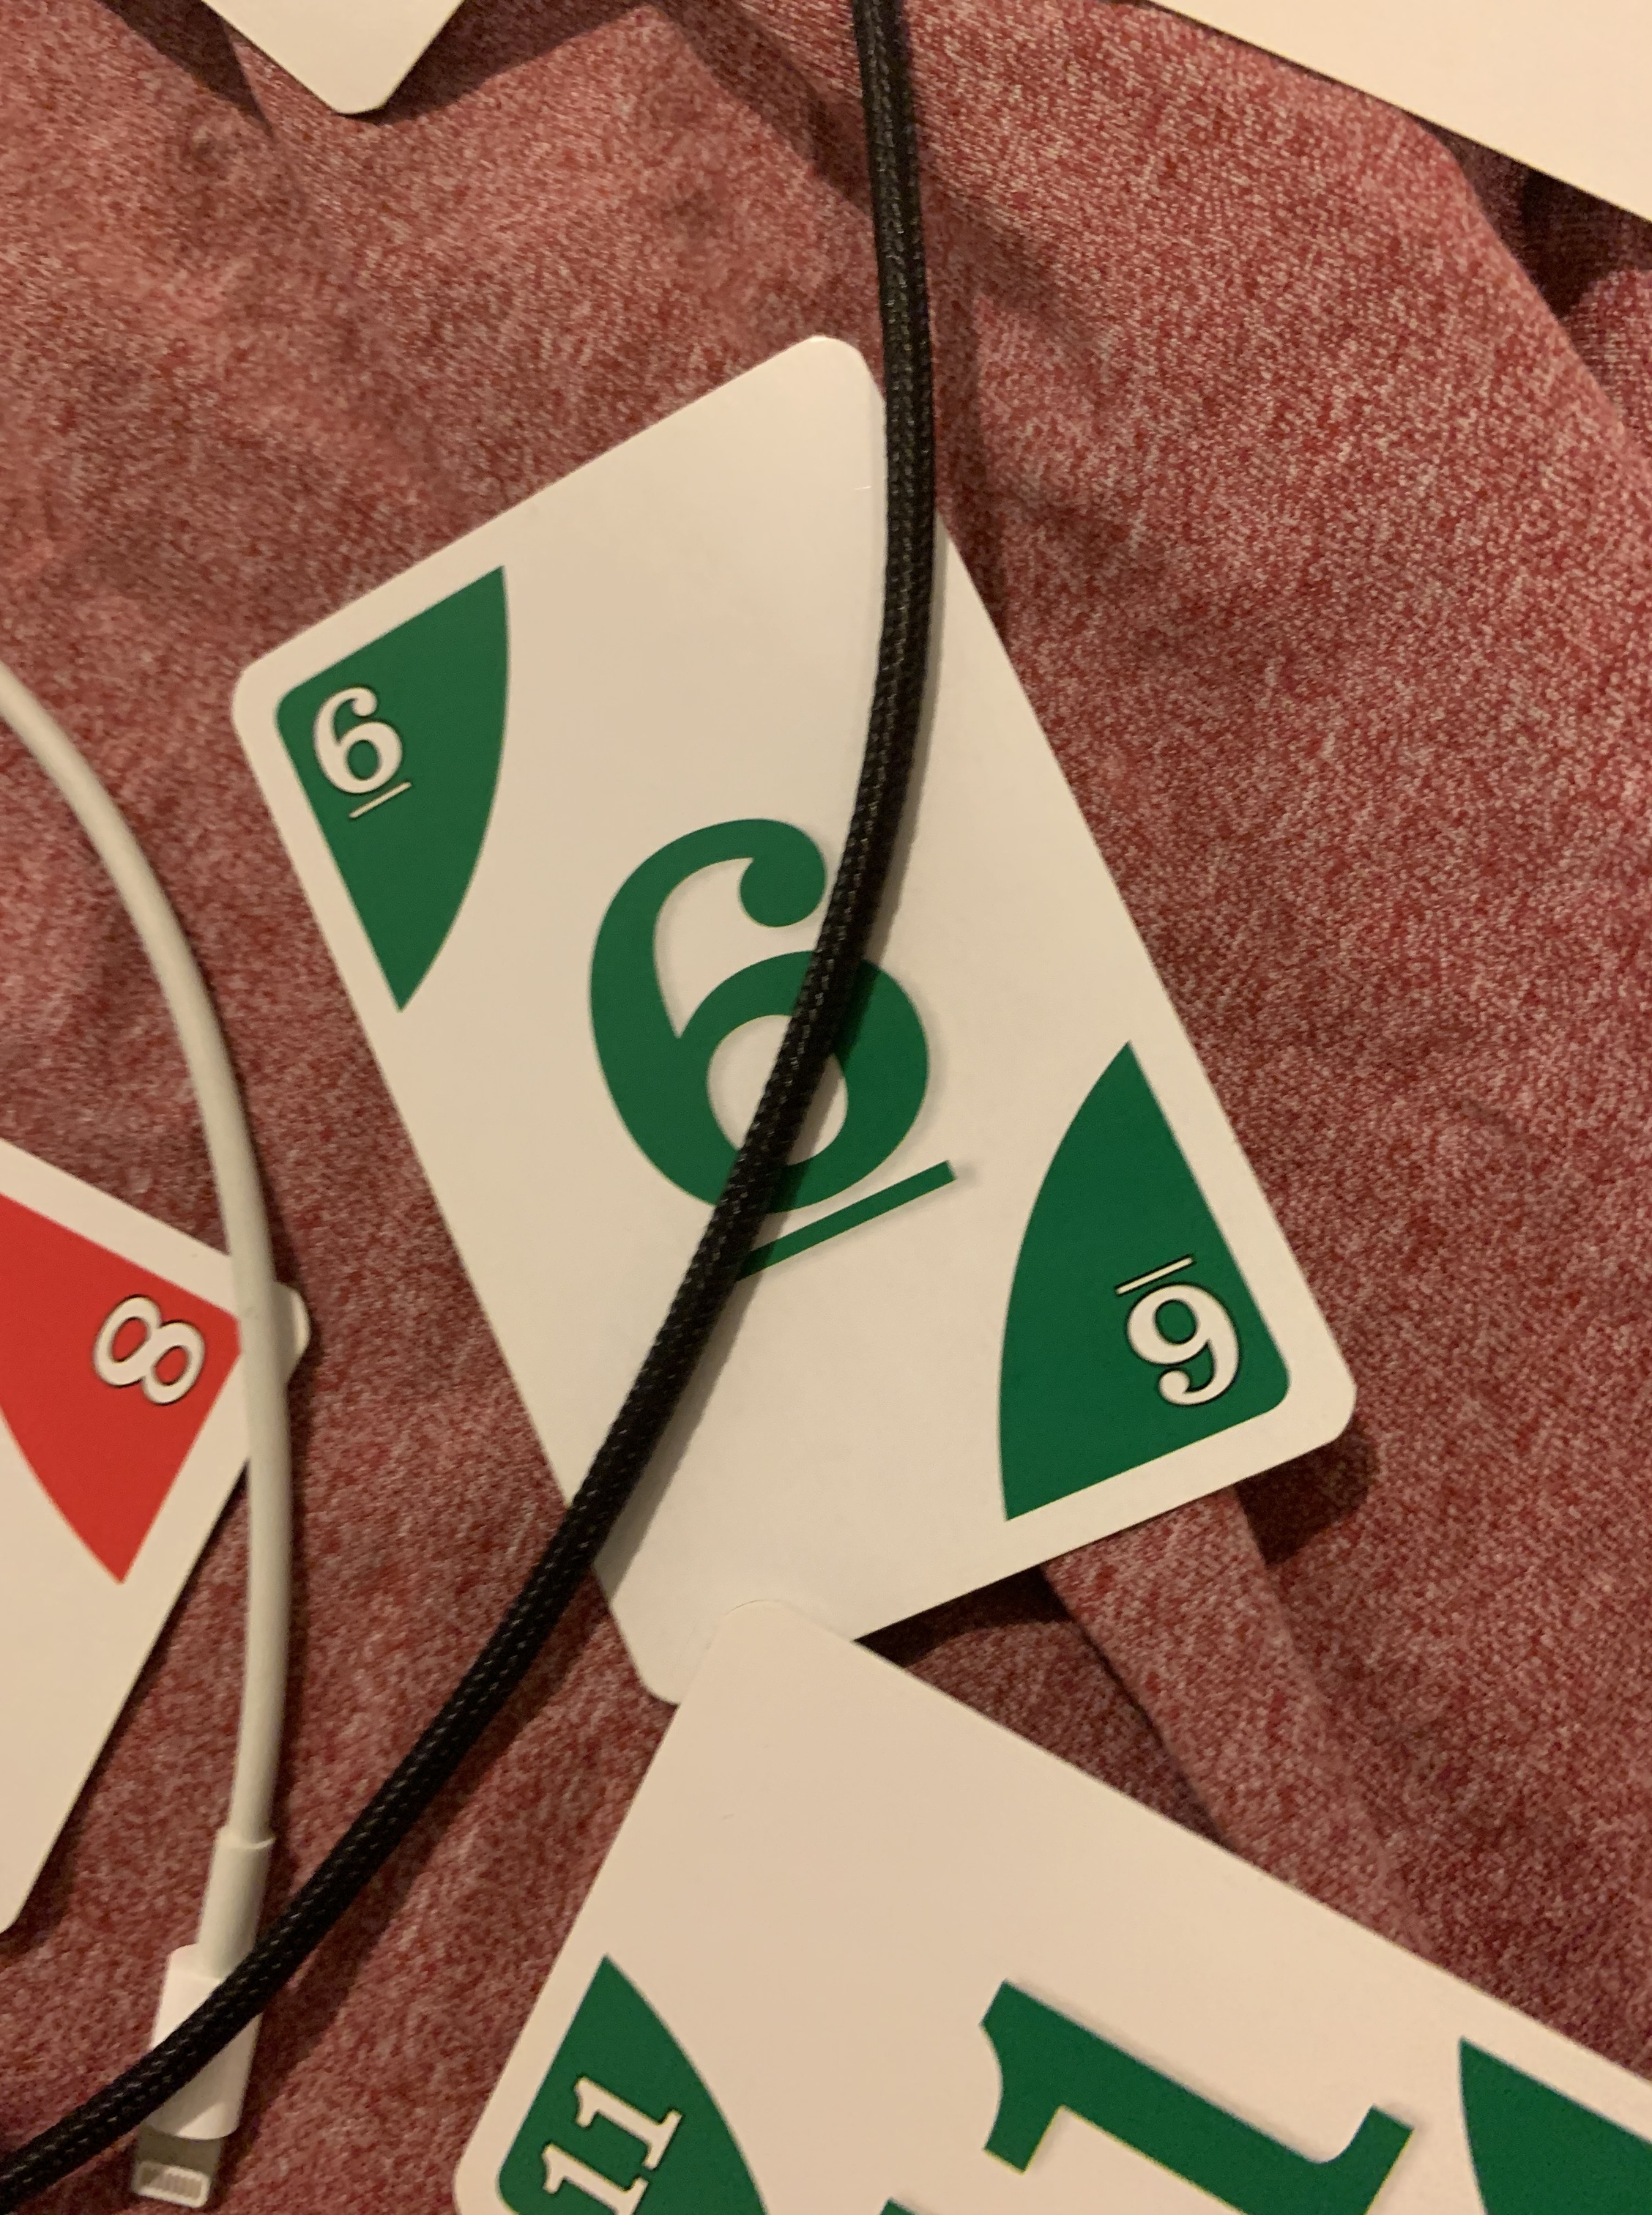six: (196, 321, 1381, 1722)
